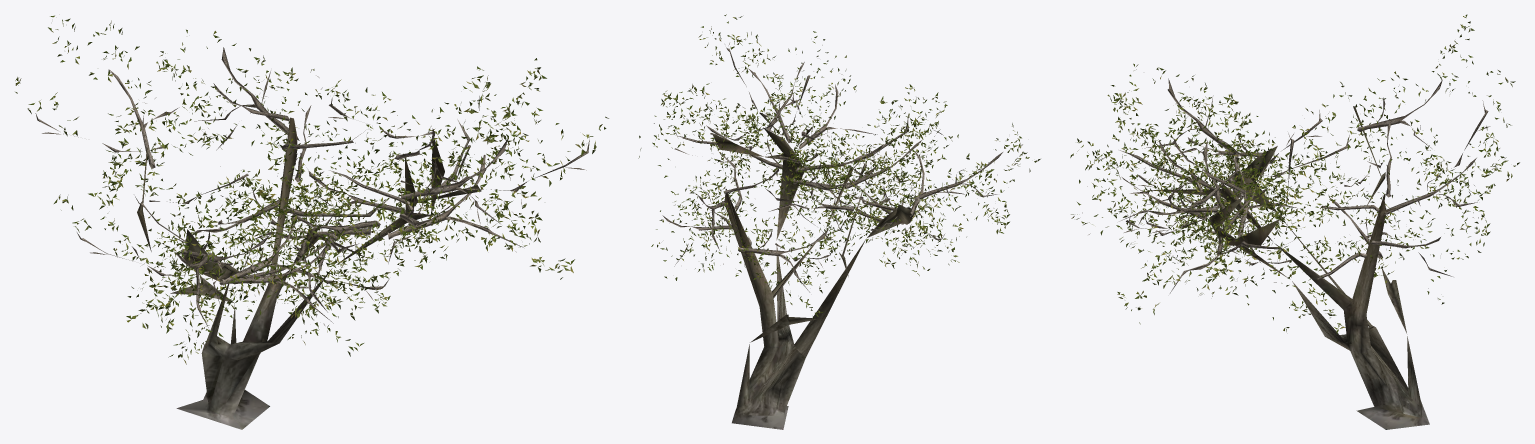
Rendered from island_tree_02_lod1.glb.
3 views of the same model, side by side, from view 1: azimuth 30°, elevation 25°; view 2: azimuth 150°, elevation 25°; view 3: azimuth 270°, elevation 25° (orthographic). The views are drawn at different scales.
Visible parts, largest first — view 1: island_tree_02_LOD0; view 2: island_tree_02_LOD0; view 3: island_tree_02_LOD0.
Boxes of the visible parts, left/top/right/bottom form: island_tree_02_LOD0: left=15, top=15, right=608, bottom=429; island_tree_02_LOD0: left=638, top=14, right=1040, bottom=429; island_tree_02_LOD0: left=1070, top=14, right=1519, bottom=429.
Size of the model in its own units: 3.77 by 3.4 by 4.03.
3 materials, 3 textured.
